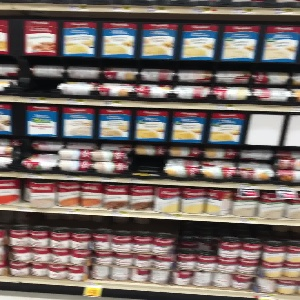void: (127, 143, 166, 184), (22, 62, 57, 103)
